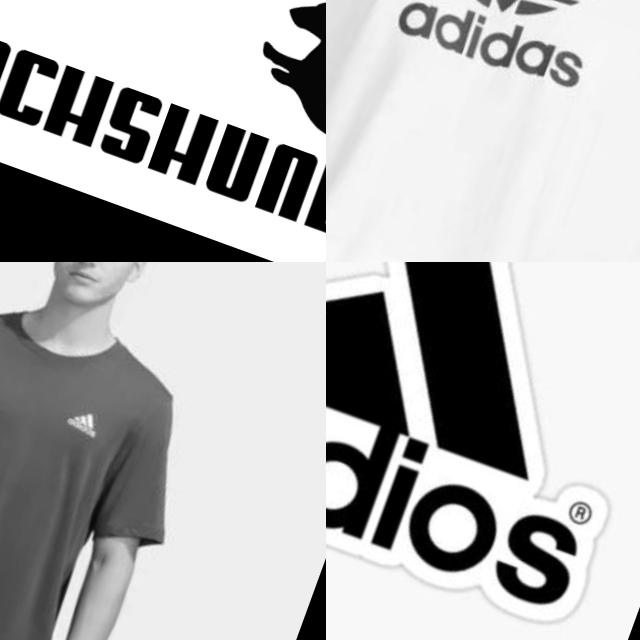ADIDAS_fake: (326, 262, 640, 640)
ADIDAS_original: (346, 0, 640, 128), (60, 402, 107, 444)
PUMA_fake: (0, 0, 326, 262)
